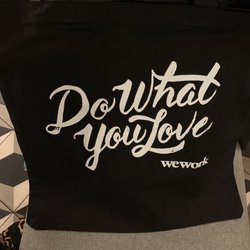wework: (159, 155, 210, 170)
